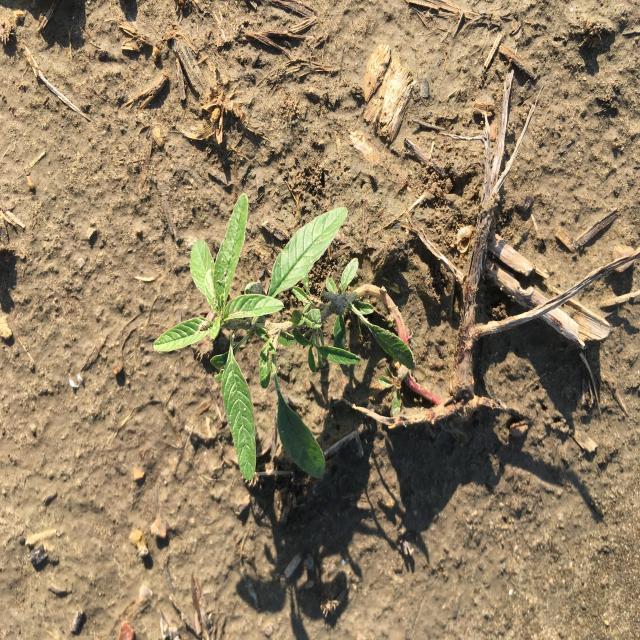Waterhemp: (152, 191, 443, 483)
